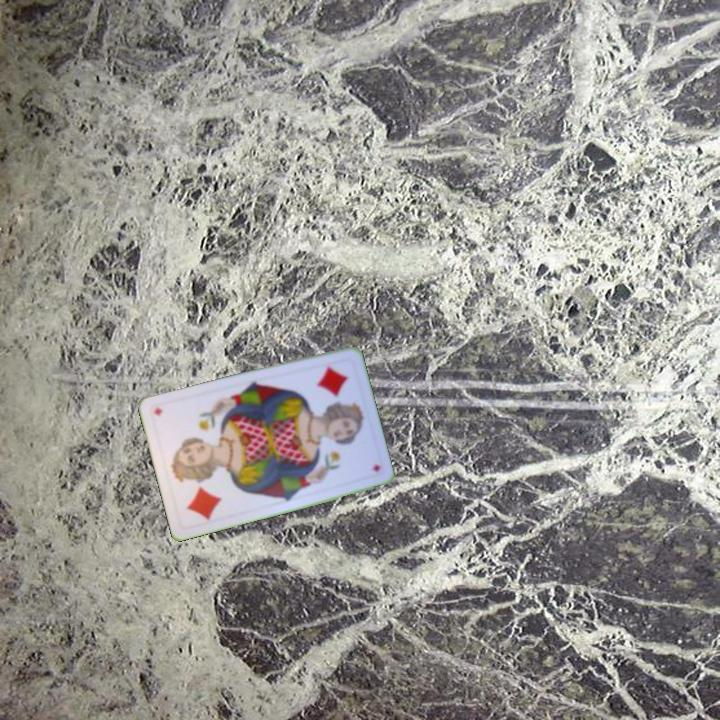d_q.png: (296, 353, 368, 432), (164, 452, 236, 530)
